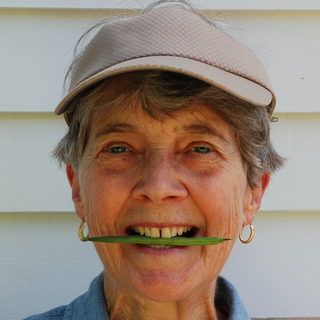eye: (92, 139, 140, 162), (176, 138, 222, 160)
